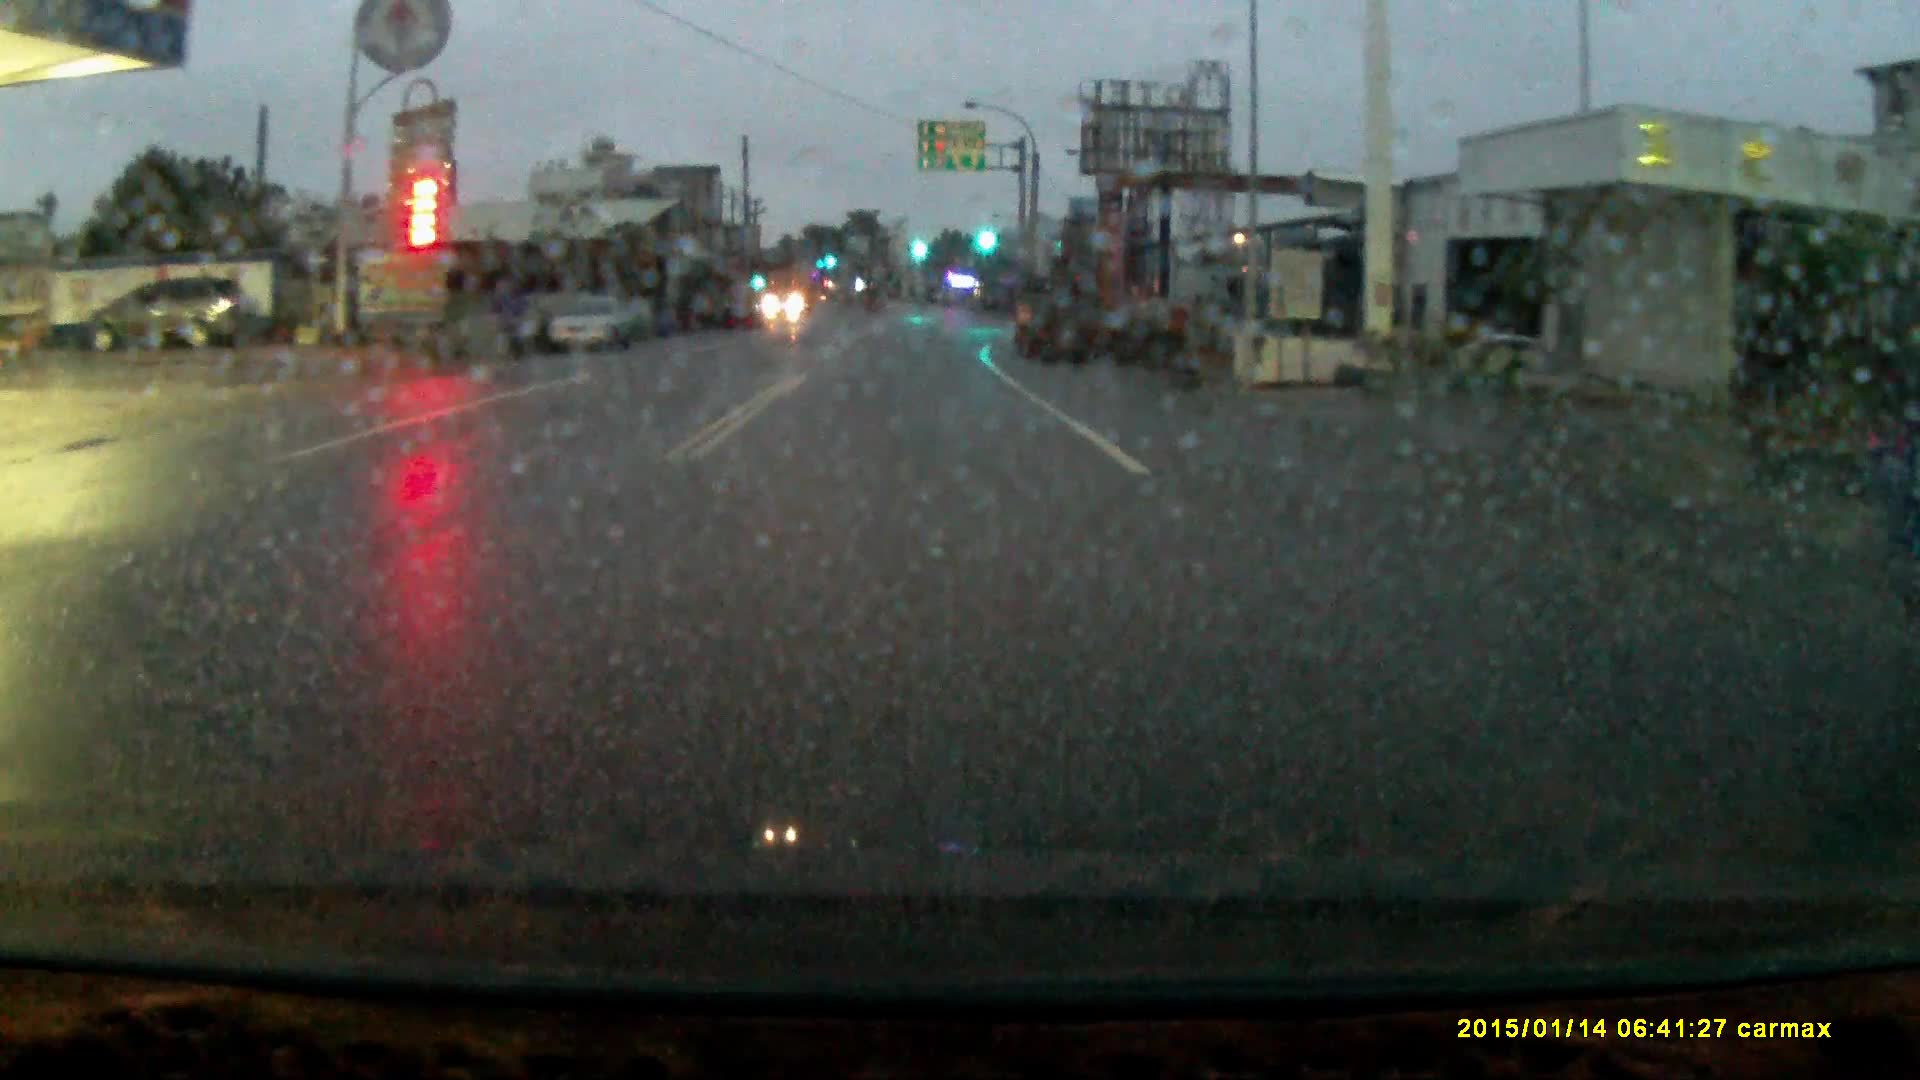rider: (465, 252, 545, 390)
vehicle: (75, 275, 261, 353), (1009, 268, 1103, 372), (544, 297, 655, 358)
